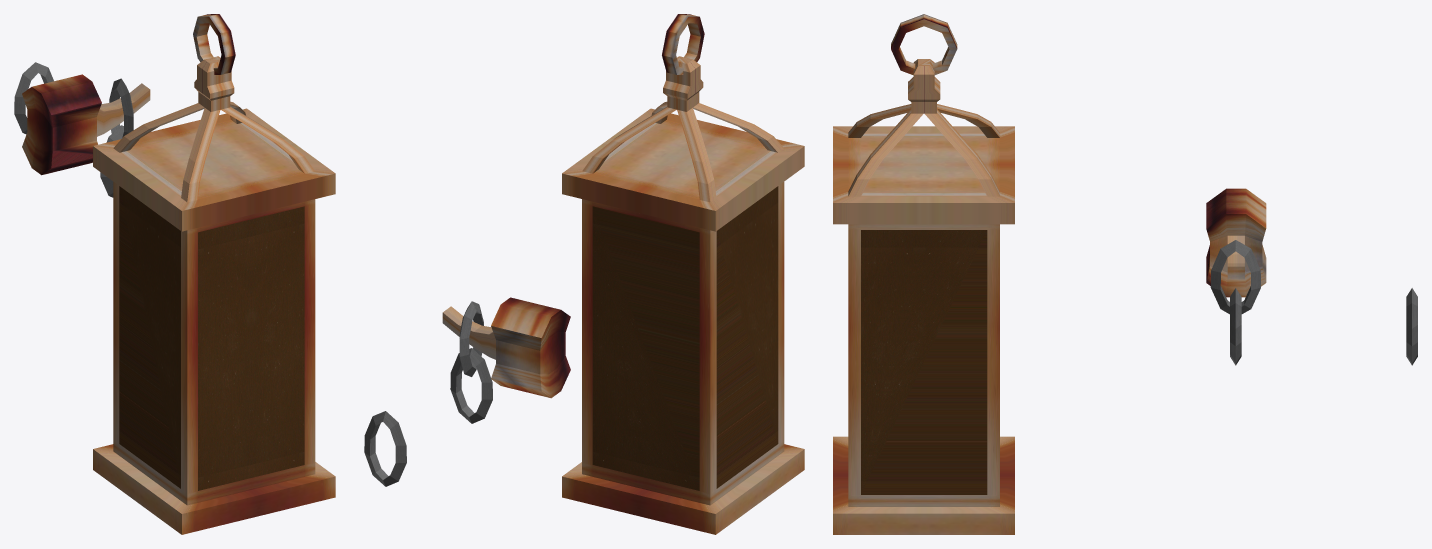
Rendered from Lantern.fbx.
3 views of the same model, side by side, from view 1: azimuth 30°, elevation 25°; view 2: azimuth 150°, elevation 25°; view 3: azimuth 270°, elevation 25° (orthographic). The views are drawn at different scales.
Visible parts, largest first — view 1: LanternGlass, Lantern, Paumeau, Chain; view 2: LanternGlass, Lantern, Paumeau, Chain; view 3: Lantern, LanternGlass, Paumeau, Chain.
Boxes of the visible parts, box(x1,y1,x2,y2) form: LanternGlass: box(119, 186, 304, 490); Lantern: box(93, 14, 335, 534); Paumeau: box(22, 74, 150, 197); Chain: box(14, 62, 53, 134); LanternGlass: box(592, 186, 778, 490); Lantern: box(562, 14, 804, 534); Paumeau: box(442, 297, 570, 423); Chain: box(364, 411, 406, 486); Lantern: box(833, 14, 1014, 534); LanternGlass: box(861, 230, 987, 494); Paumeau: box(1206, 188, 1266, 365); Chain: box(1406, 288, 1417, 365).
Bounding box in the file's own units: 112 × 313 × 345.
